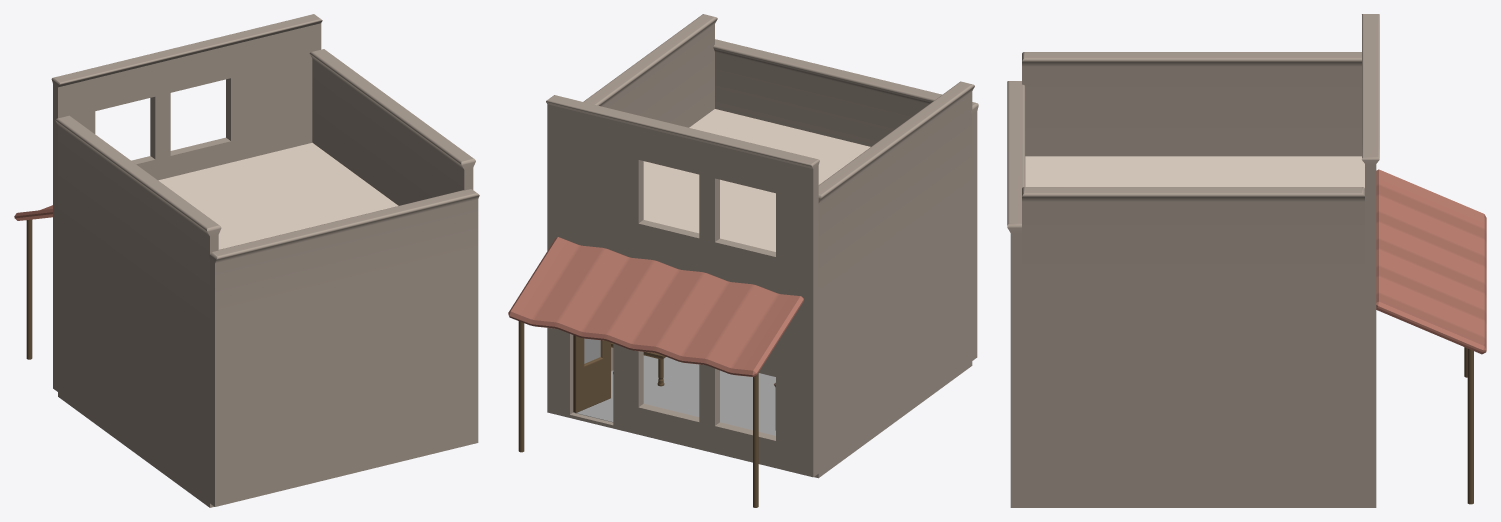
Rendered from Store_Finalized.fbx.
The picture shows the model from 3 angles, left to right: view 1: azimuth 30°, elevation 25°; view 2: azimuth 150°, elevation 25°; view 3: azimuth 270°, elevation 25°; orthographic projection. The views are drawn at different scales.
Visible parts, largest first — view 1: pasted__pasted__group87_pasted__pasted__pasted__group75_past; view 2: pasted__pasted__group87_pasted__pasted__pasted__group75_past; view 3: pasted__pasted__group87_pasted__pasted__pasted__group75_past.
Boxes of the visible parts, x1,y1,x2,y2 form: pasted__pasted__group87_pasted__pasted__pasted__group75_past: (14,14,479,507); pasted__pasted__group87_pasted__pasted__pasted__group75_past: (508,14,978,507); pasted__pasted__group87_pasted__pasted__pasted__group75_past: (1007,14,1486,507).
Size of the model in its own units: 15.32 by 17.13 by 20.97.
